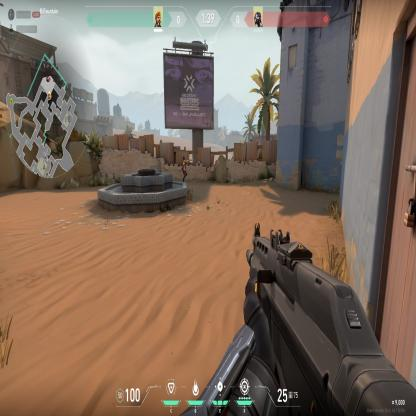enemy: (180, 154, 189, 182)
